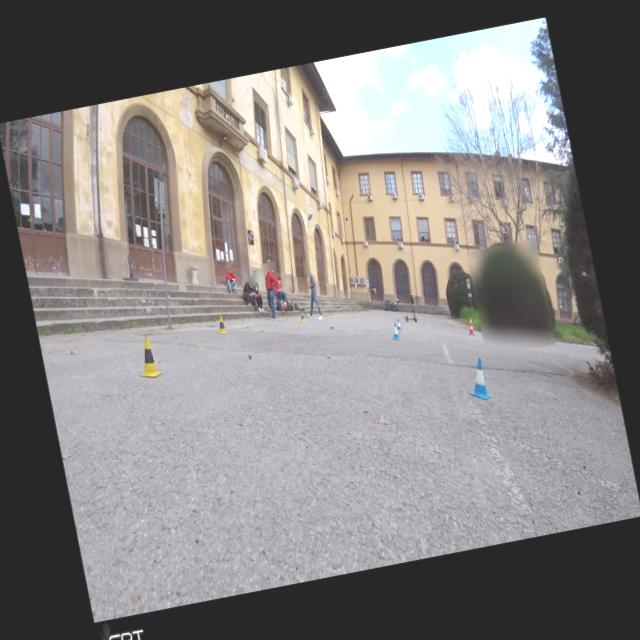blue_cone: (463, 356, 492, 403), (389, 322, 401, 342), (396, 318, 402, 332)
large_orange_cone: (464, 318, 474, 338)
yellow_cone: (133, 334, 163, 381), (214, 314, 228, 336), (298, 312, 306, 324)
